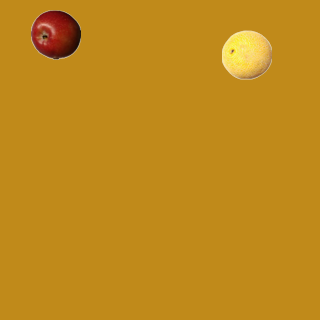Apple Braeburn: (30, 9, 80, 59)
Cantaloupe 1: (221, 29, 271, 79)
